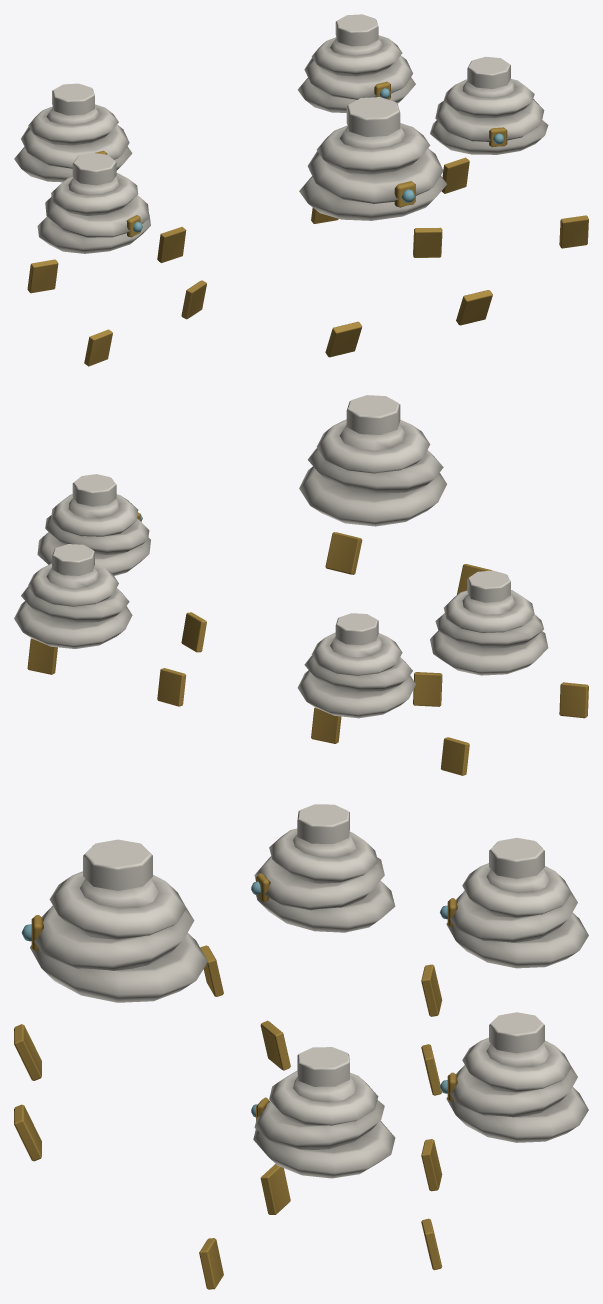
Rendered from lather-linen-lod1.glb.
3 renders of one model, top to bottom at view 1: azimuth 30°, elevation 25°; view 2: azimuth 150°, elevation 25°; view 3: azimuth 270°, elevation 25°, orthographic. The views are drawn at different scales.
Visible parts, largest first — view 1: cap_hat, att2_hat, att3_hat, att0_hat, att1_hat, cap_arm_l_trim, cap_arm_r_trim, att2_arm_l_trim, att2_arm_r_trim, att1_arm_r_trim, att1_arm_l_trim, att0_arm_l_trim (+2 smaller); view 2: cap_hat, att3_hat, att1_hat, att0_hat, att2_hat, cap_arm_l_trim, att3_arm_r_trim, att3_arm_l_trim, att1_arm_r_trim, att0_arm_r_trim, att0_arm_l_trim, att1_arm_l_trim (+1 smaller); view 3: cap_hat, att2_hat, att0_hat, att1_hat, att3_hat, att2_arm_r_trim, cap_arm_l_trim, cap_arm_r_trim, att3_arm_l_trim, att2_arm_l_trim, att0_arm_r_trim, att1_arm_r_trim (+1 smaller).
Boxes of the visible parts, x1,y1,x2,y2 form: cap_hat: (299,97,446,220); att2_hat: (430,56,548,154); att3_hat: (37,153,150,253); att0_hat: (297,14,415,112); att1_hat: (14,83,132,182); cap_arm_l_trim: (456,290,492,325); cap_arm_r_trim: (325,321,362,357); att2_arm_l_trim: (559,215,588,248); att2_arm_r_trim: (413,227,442,257); att1_arm_r_trim: (27,259,58,293); att1_arm_l_trim: (157,226,186,263); att0_arm_l_trim: (441,157,469,193); cap_hat: (299,395,446,526); att3_hat: (430,570,548,675); att1_hat: (297,613,415,718); att0_hat: (14,544,132,648); att2_hat: (37,474,150,575); cap_arm_l_trim: (325,532,362,574); att3_arm_r_trim: (559,682,588,718); att3_arm_l_trim: (413,672,442,706); att1_arm_r_trim: (440,737,469,775); att0_arm_r_trim: (157,668,186,706); att0_arm_l_trim: (27,638,57,674); att1_arm_l_trim: (311,707,341,743); cap_hat: (21,839,207,1002); att2_hat: (251,1047,395,1178); att0_hat: (440,1012,588,1142); att1_hat: (440,837,588,968); att3_hat: (251,804,395,932); att2_arm_r_trim: (260,1164,290,1214); cap_arm_l_trim: (14,1104,41,1161); cap_arm_r_trim: (14,1024,41,1080); att3_arm_l_trim: (260,1020,290,1070); att2_arm_l_trim: (199,1238,223,1289); att0_arm_r_trim: (421,1139,442,1191); att1_arm_r_trim: (421,964,442,1016).
Bounding box in the file's own units: 2.2 × 0.9415 × 1.73.
